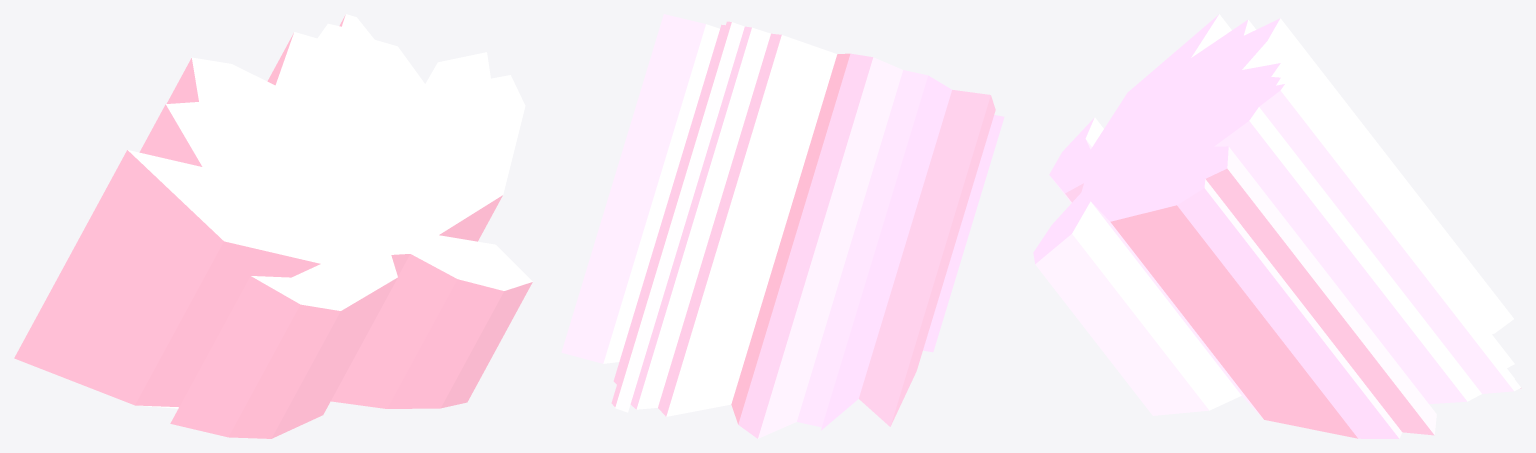
Rendered from Lotus5.glb.
3 renders of one model, left to right at view 1: azimuth 30°, elevation 25°; view 2: azimuth 150°, elevation 25°; view 3: azimuth 270°, elevation 25°, orthographic. The views are drawn at different scales.
Parts seen in each view (by area): view 1: Plane; view 2: Plane; view 3: Plane.
Part boxes in pixels (x1,y1,x2,y2): Plane: (14,14,532,438); Plane: (561,14,1004,438); Plane: (1033,14,1521,438).
Bounding box in the file's own units: 4.46 × 4.03 × 5.6.
